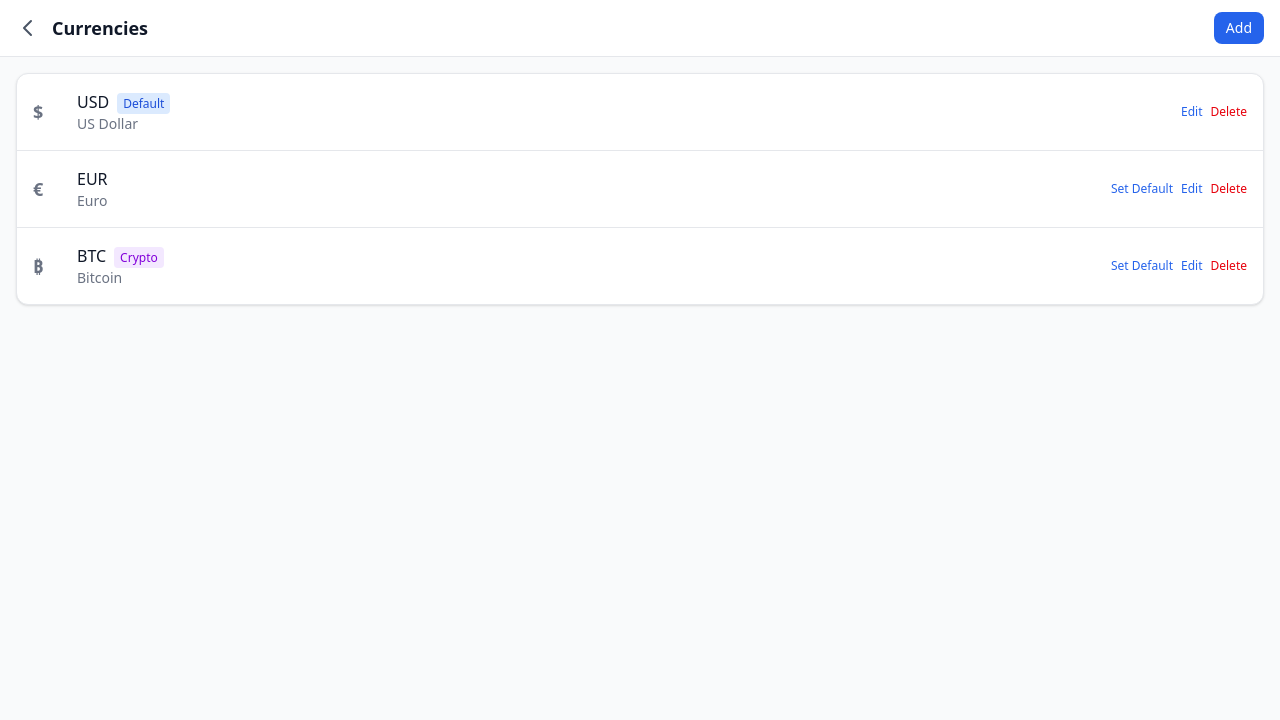
Test: CurrenciesPage › opens add modal when Add button is clicked
The image size is (1280, 720).
Click the button "Add" at [1239, 28], box [1214,12,1264,44]
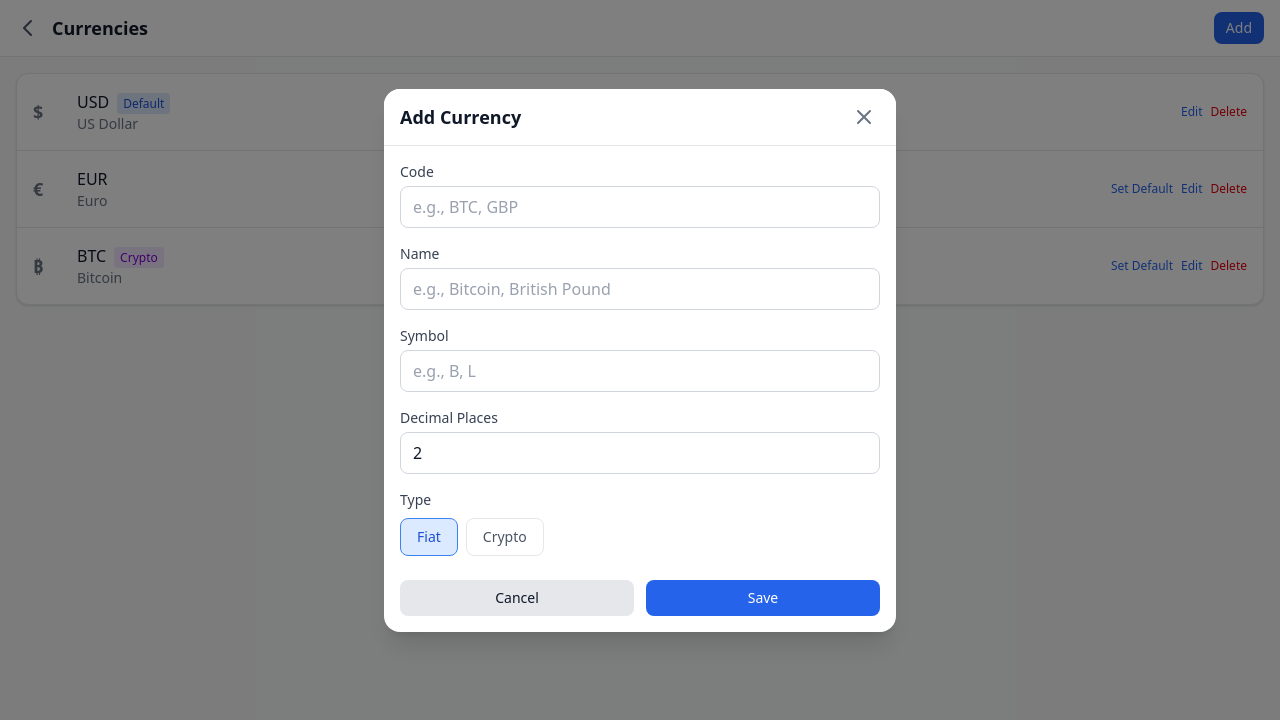
Expected: the heading "Add Currency" is shown, [400,102,521,130]
